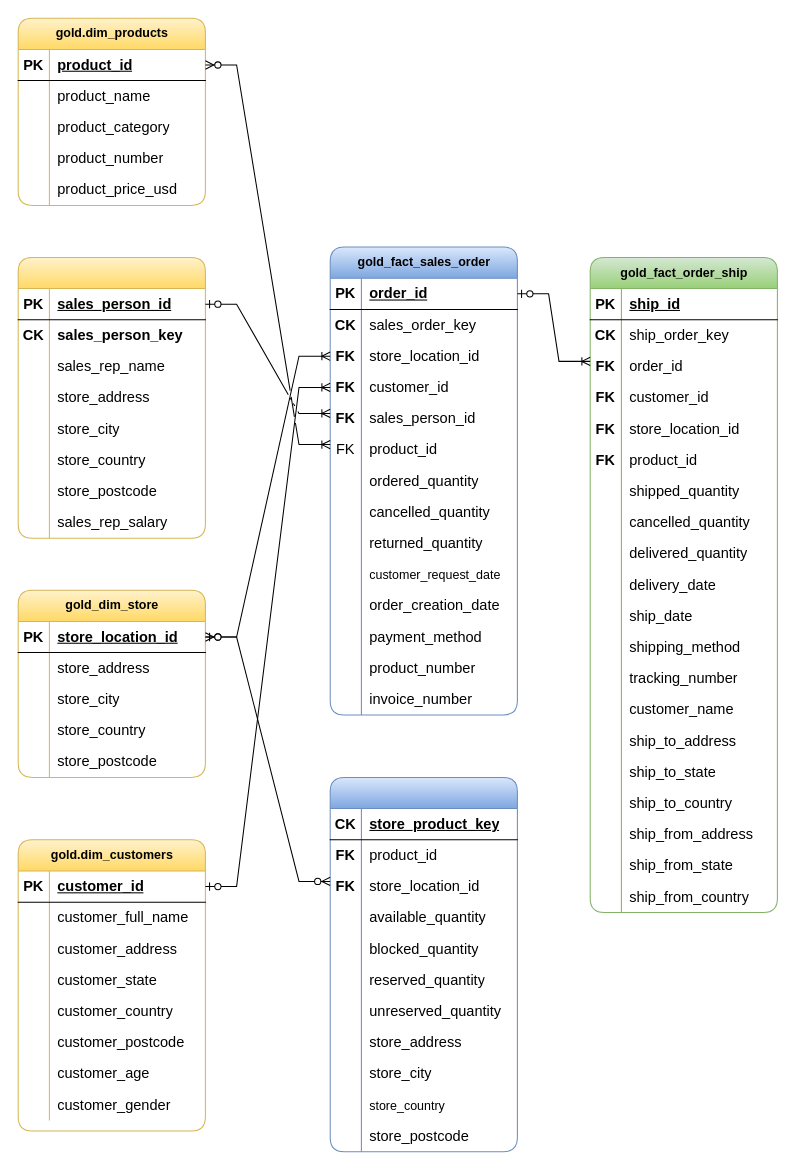
This 796x1170 diagram has some shape labels left out. The shapes that lost their labels are listed below. From the top down, each one's box as (x1, y1, x2, y2) in pixels, then its label:
(17, 256, 205, 538): gold_dim_sales_person
(329, 776, 517, 1152): gold_fact_store_products
